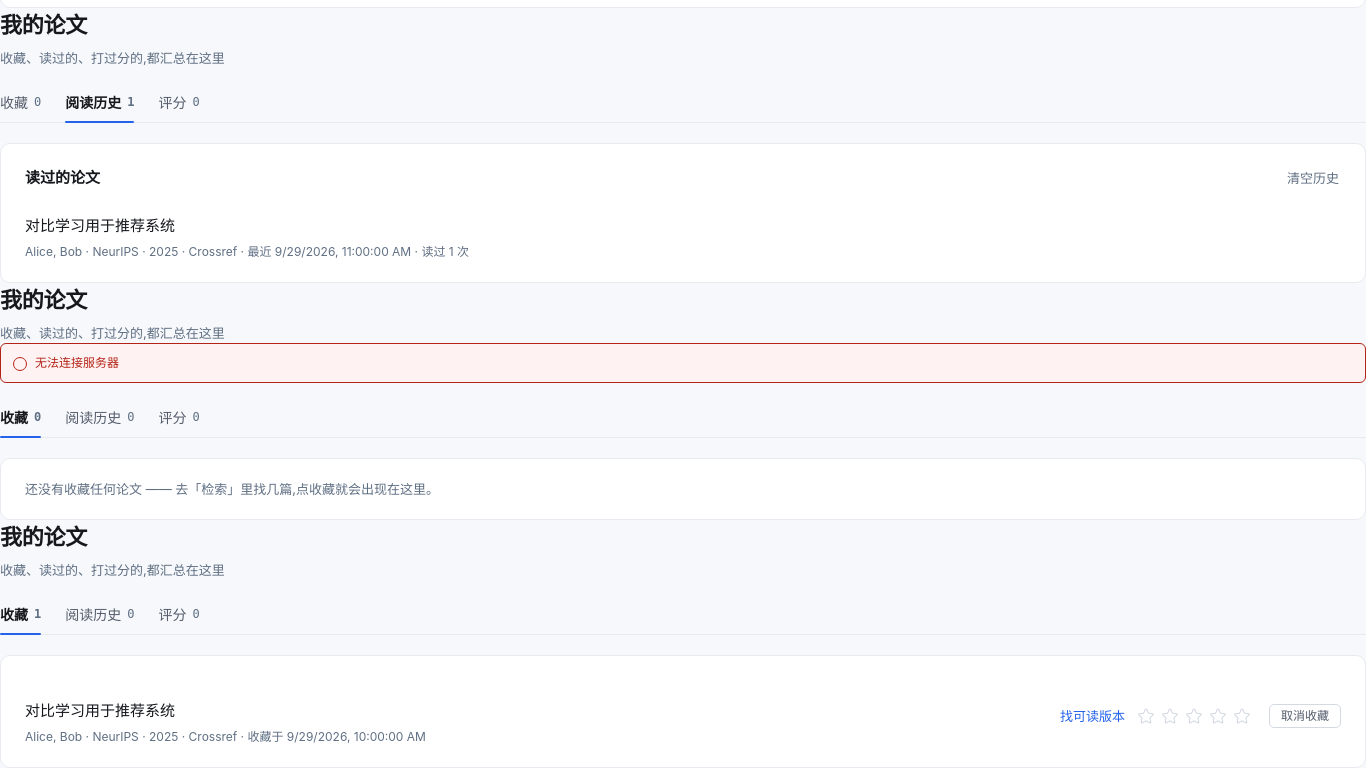
Test: LibraryView › 取消失败时把原因显示出来
(page scrolled)
Click the button "取消收藏". click: [1305, 716]
box: [1269,704,1341,728]
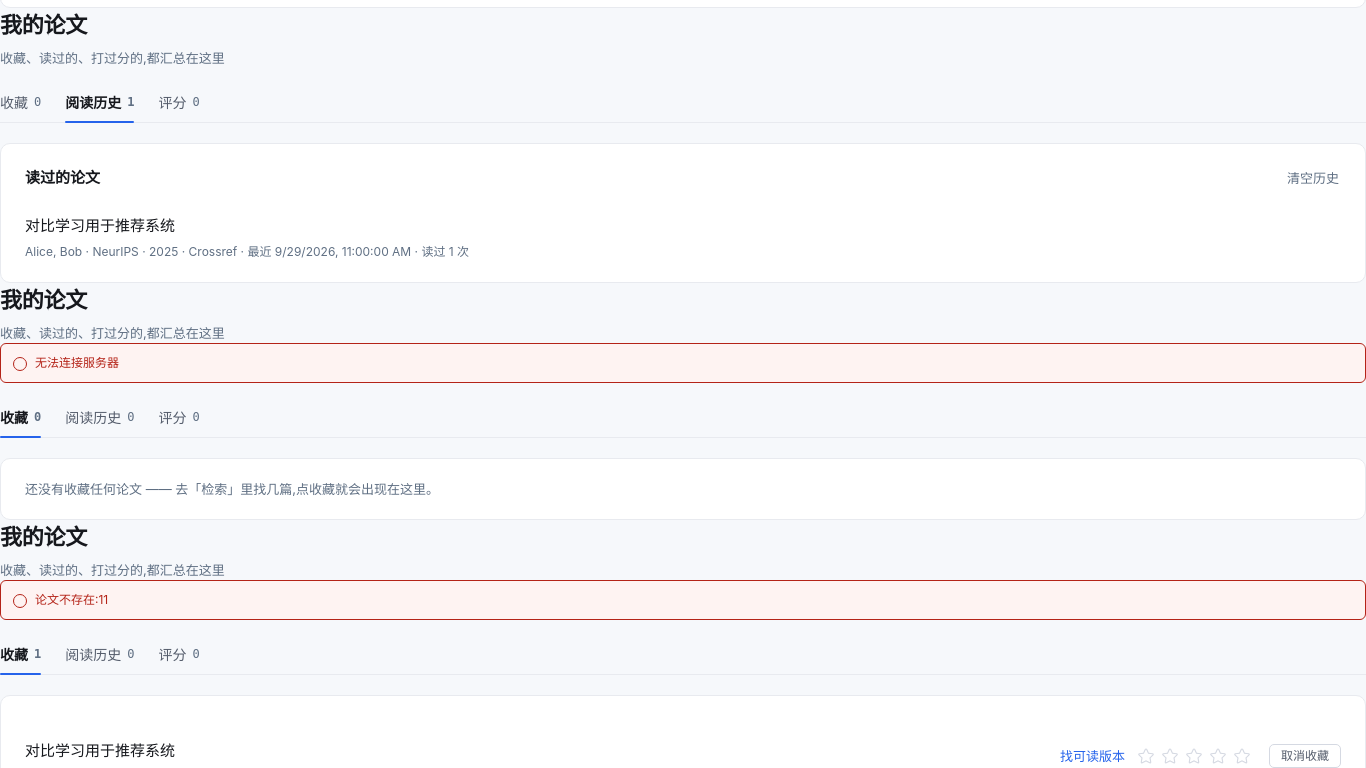
Check: the message with class "alert" shows "论文不存在", box [35,592,108,607]
